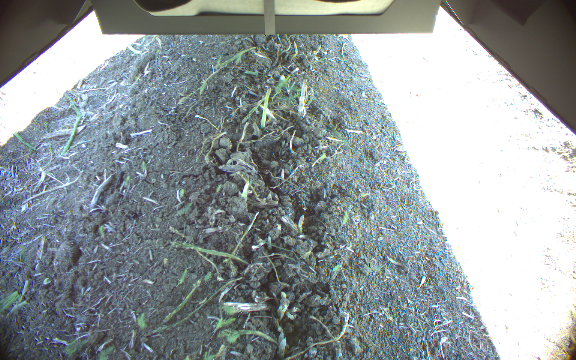aspa: (259, 87, 271, 130)
